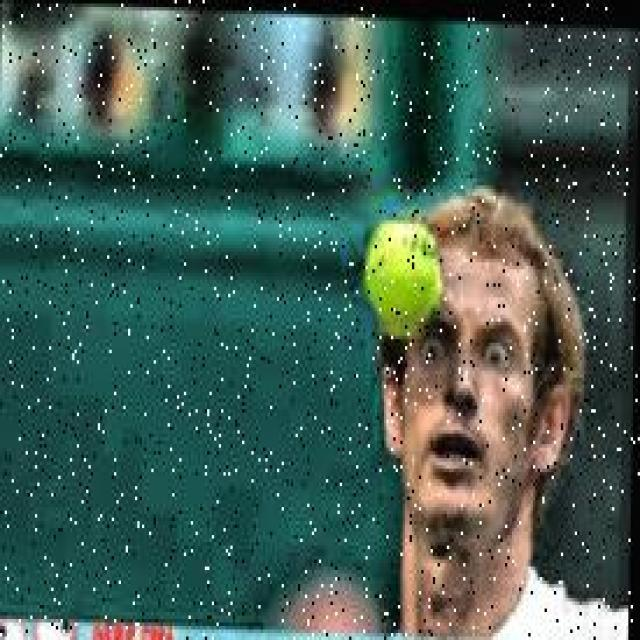tennis-ball: (363, 218, 440, 334)
